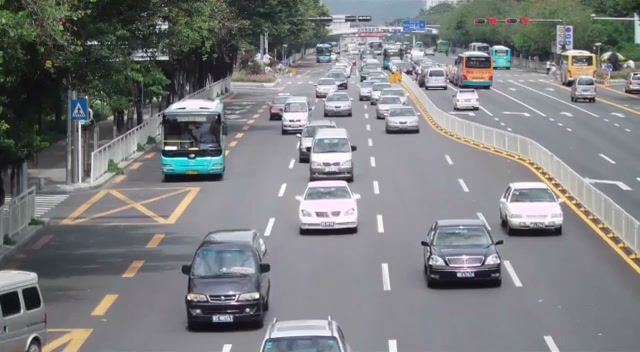bus: (159, 97, 227, 181), (449, 51, 494, 89), (490, 45, 511, 69)
car: (181, 230, 272, 331), (420, 218, 504, 288), (0, 269, 49, 352), (498, 181, 565, 236), (297, 180, 360, 235), (259, 318, 352, 352), (308, 128, 356, 182), (296, 122, 335, 162), (280, 98, 310, 135), (384, 105, 420, 134), (375, 93, 408, 119), (323, 91, 353, 117), (570, 76, 596, 103), (452, 89, 480, 111), (423, 68, 448, 91), (269, 94, 289, 120), (624, 72, 640, 94)
truck: (559, 49, 596, 86)
